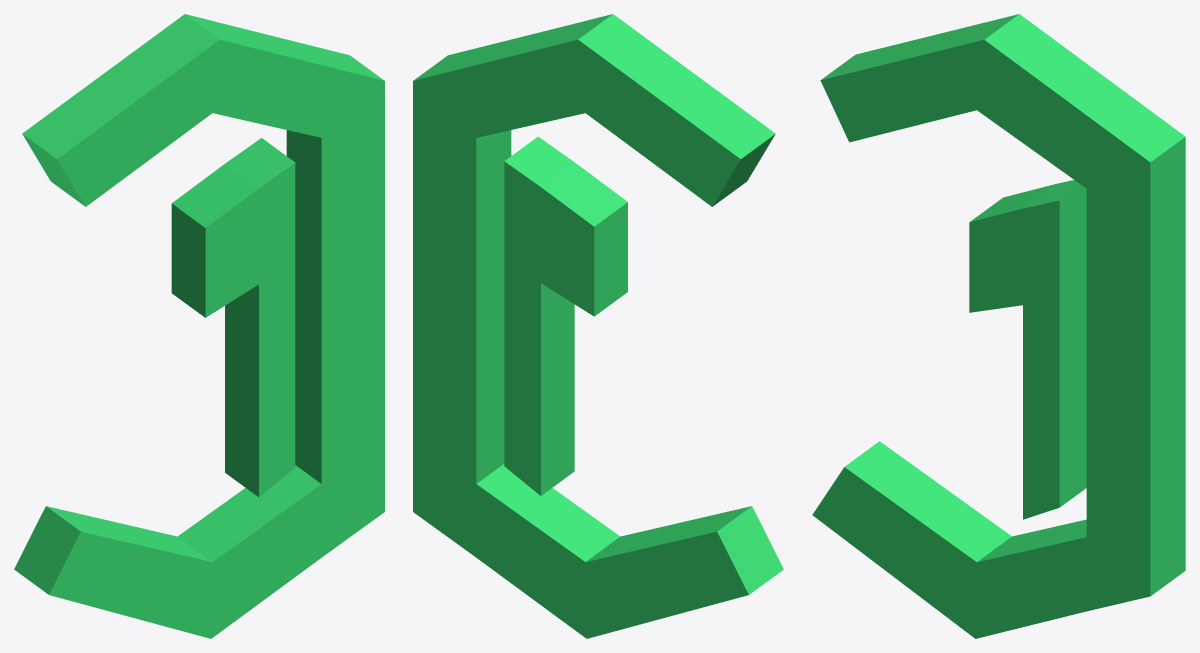
Rendered from stage03_symCheck.fbx.
3 renders of one model, left to right at view 1: azimuth 30°, elevation 25°; view 2: azimuth 150°, elevation 25°; view 3: azimuth 330°, elevation 25°, orthographic.
Parts seen in each view (by area): view 1: pCube4; view 2: pCube4; view 3: pCube4.
Boxes of the visible parts, x1=… form: pCube4: x1=14, y1=14, x2=384, y2=638; pCube4: x1=413, y1=14, x2=783, y2=638; pCube4: x1=812, y1=14, x2=1185, y2=638.
Size of the model in its own units: 0.9352 by 1.59 by 0.1702.
Materials: 1 (1 with a texture image).
